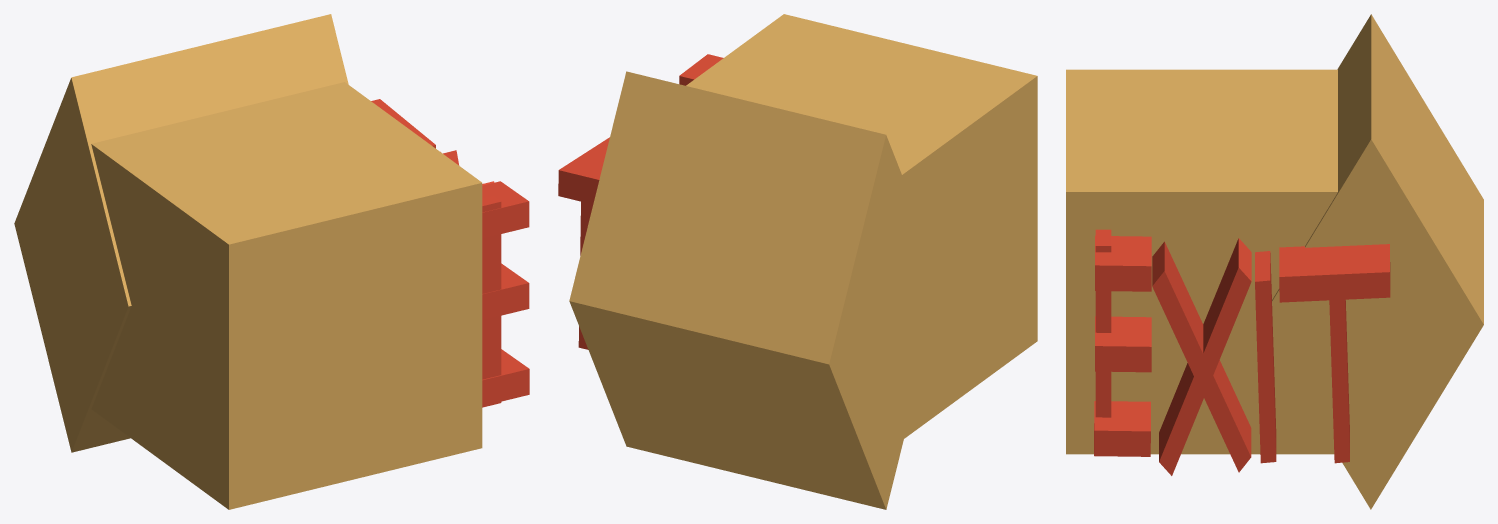
The model's file is ExitSign.fbx.
The picture shows the model from 3 angles, left to right: view 1: azimuth 30°, elevation 25°; view 2: azimuth 150°, elevation 25°; view 3: azimuth 270°, elevation 25°; orthographic projection.
Visible parts, largest first — view 1: Cube; view 2: Cube; view 3: Cube.
Boxes of the visible parts, box(x1,y1,x2,y2) form: Cube: box(14, 14, 529, 509); Cube: box(558, 14, 1037, 509); Cube: box(1066, 14, 1483, 509).
Size of the model in its own units: 251 by 283 by 289.
